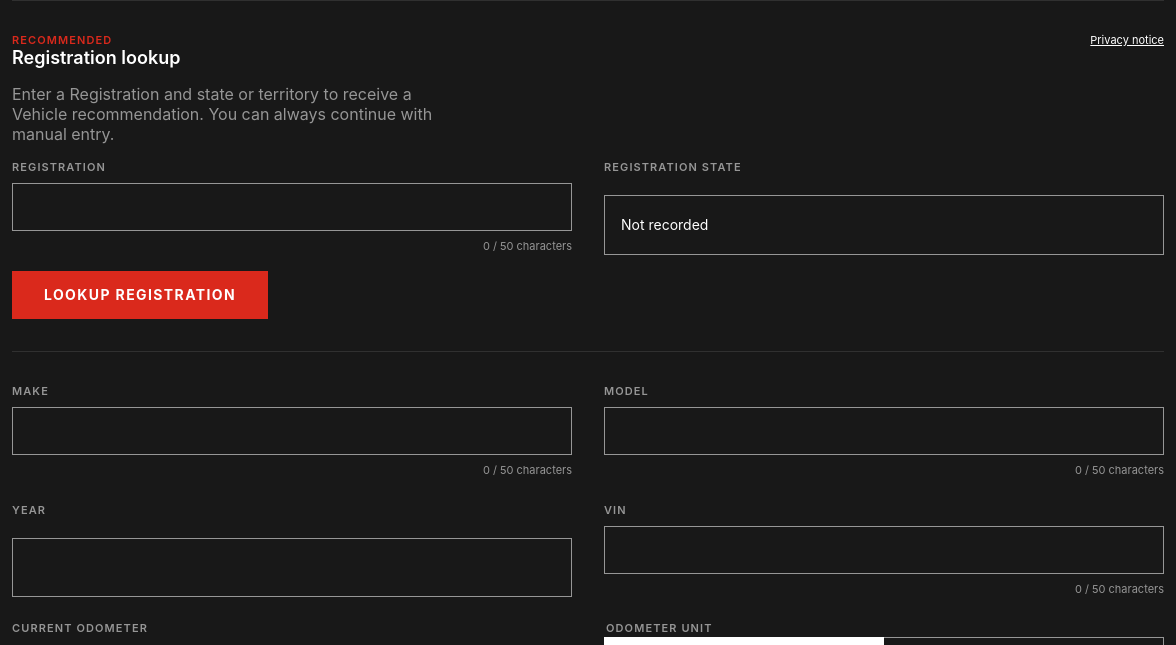
Test: VehicleForm registration lookup › restores lookup readiness with a safe error after token retrieval rejects
The image size is (1176, 645).
Type "ABC 123" into the field labelled "Registration" at (292, 207), box [12,183,572,231]
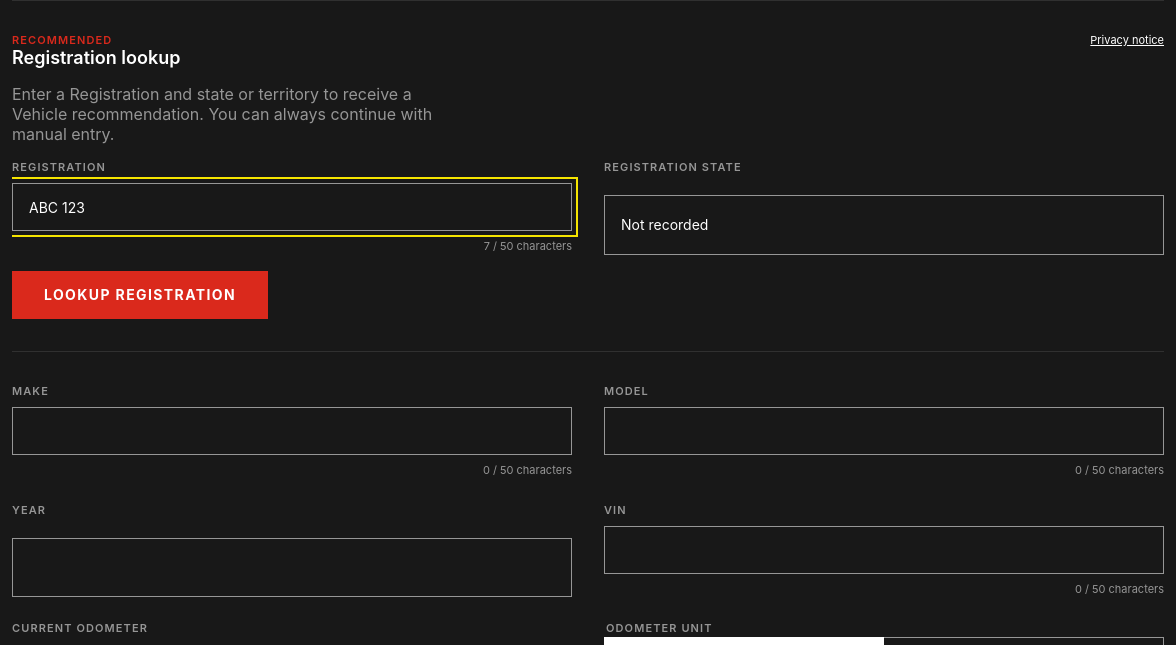
Select "WA" in the dropdown labelled "Registration state" at (884, 225), box [604,195,1164,255]
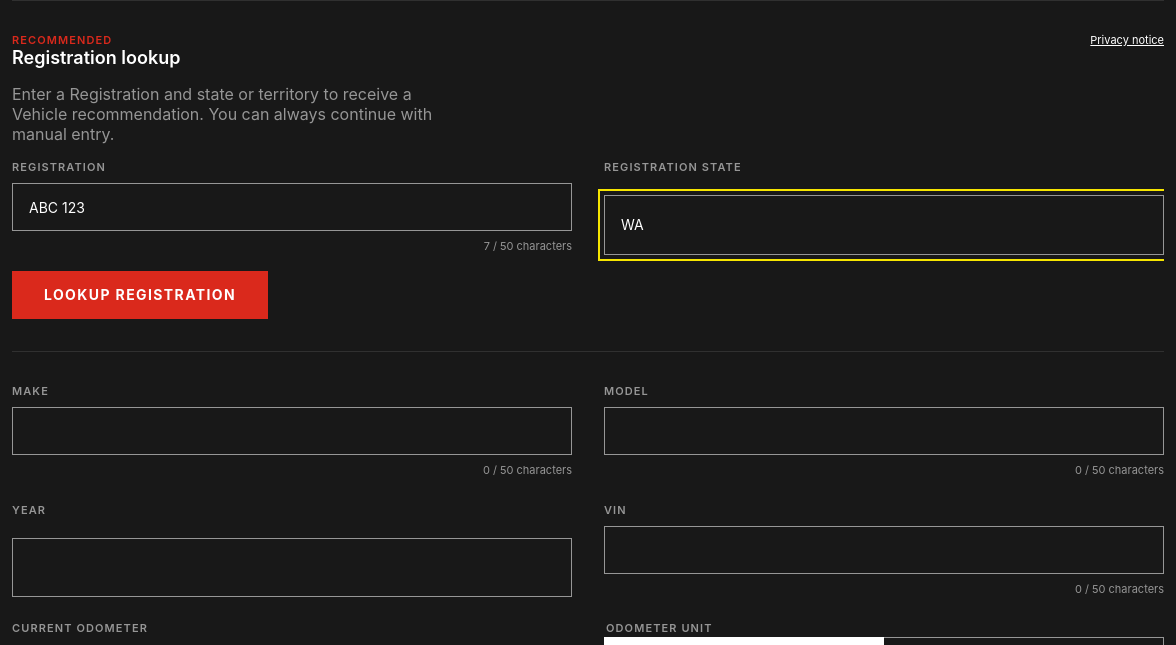
Click the button "Lookup registration" at (140, 295), box [12,271,268,319]
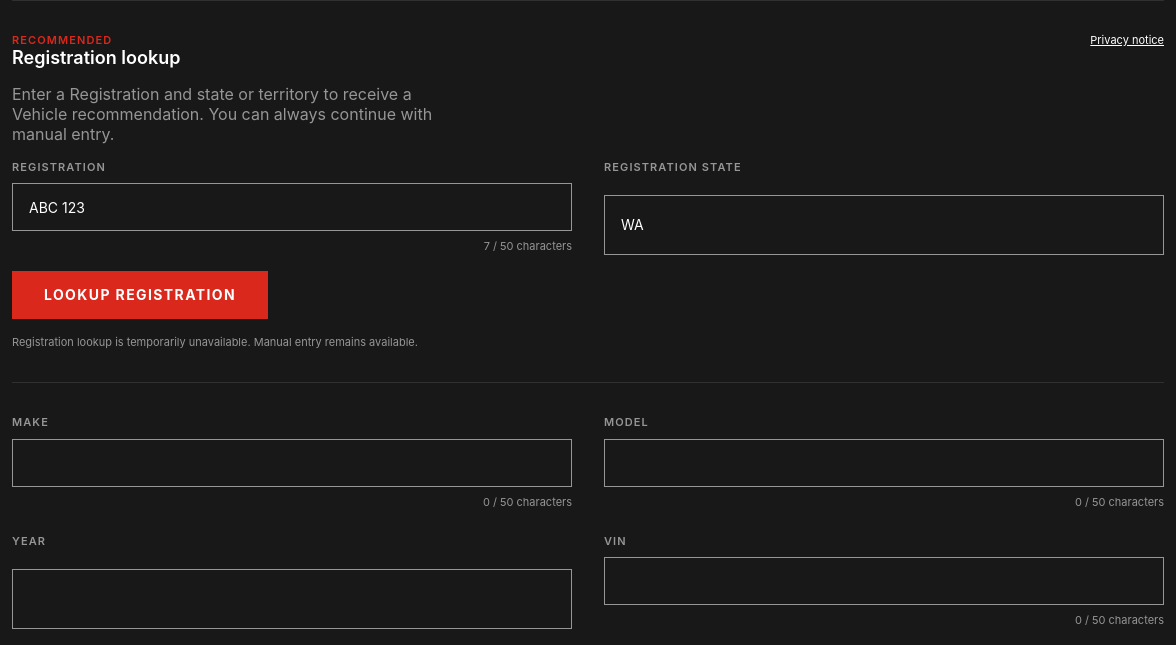
Result: the message reads "Registration lookup is temporarily unavailable. Manual entry remains available." at [12,335,418,349]
